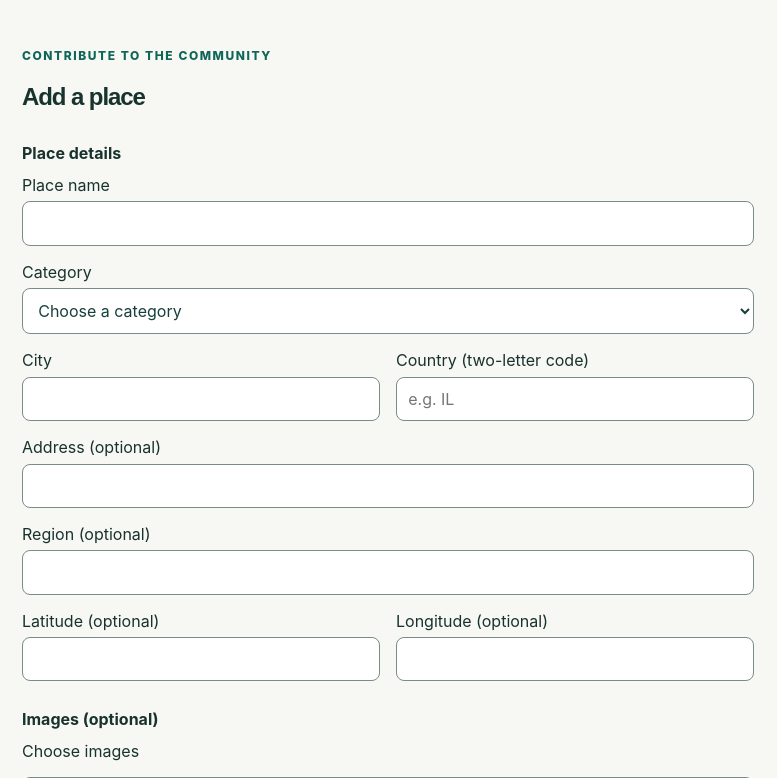
changing category reloads questions and clears stale answers
Type "New place" into the field labelled "Place name".
click(388, 223); type("New place")  # box [22,201,754,246]
Select "Configured category" in the dropdown labelled "Category" at (388, 311), box [22,288,754,334]
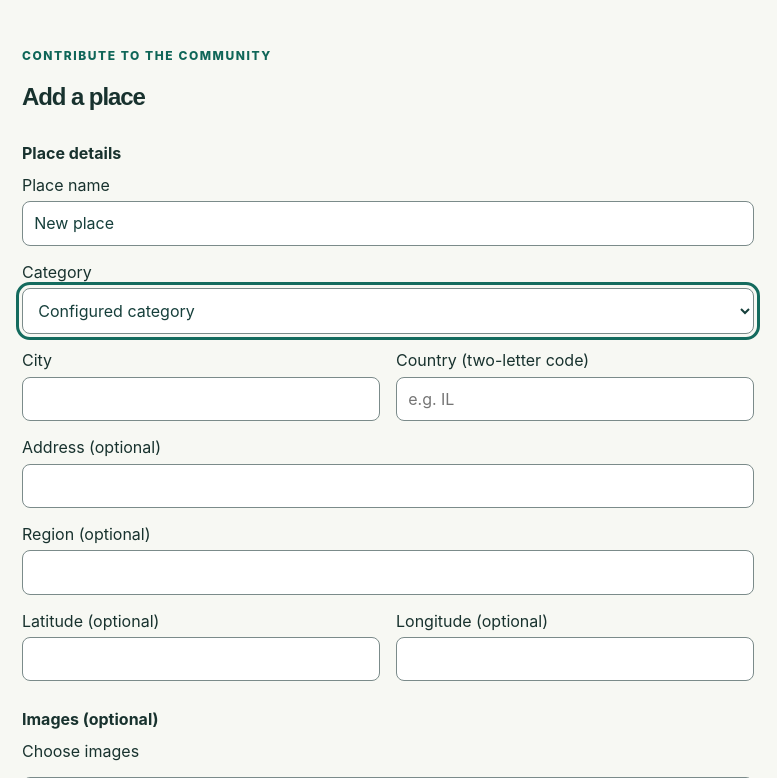
Type "Test city" into the field labelled "City".
click(201, 399); type("Test city")  # box [22,377,380,421]
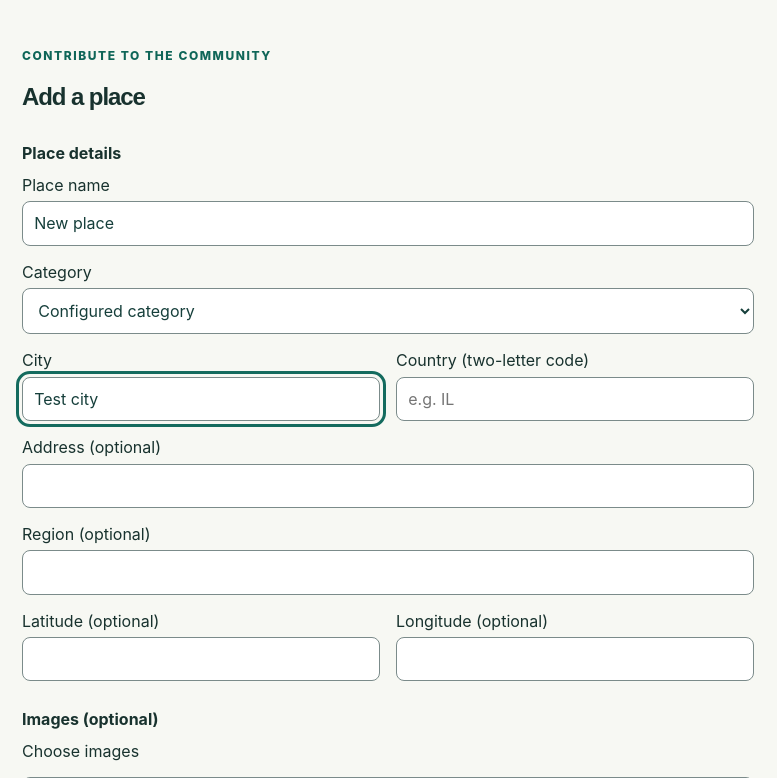
Type "IL" into the field labelled "Country (two-letter code)".
click(575, 399); type("IL")  # box [396,377,754,421]
(page scrolled)
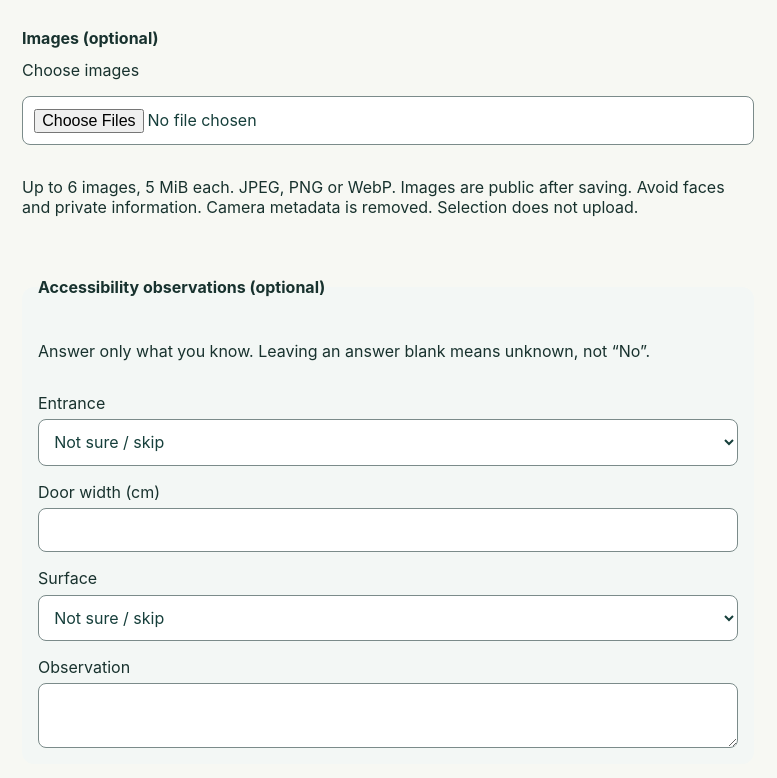
Now the dropdown labelled "Entrance" is shown
Select "Yes" in the dropdown labelled "Entrance" at (388, 442), box [38,419,738,466]
(page scrolled)
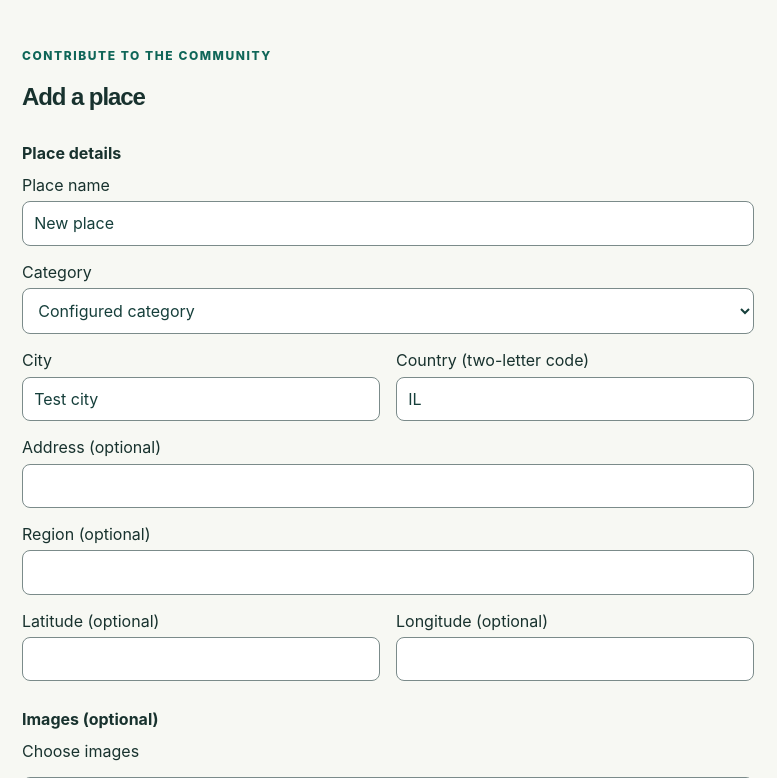
Select "Other category" in the dropdown labelled "Category" at (388, 311), box [22,288,754,334]
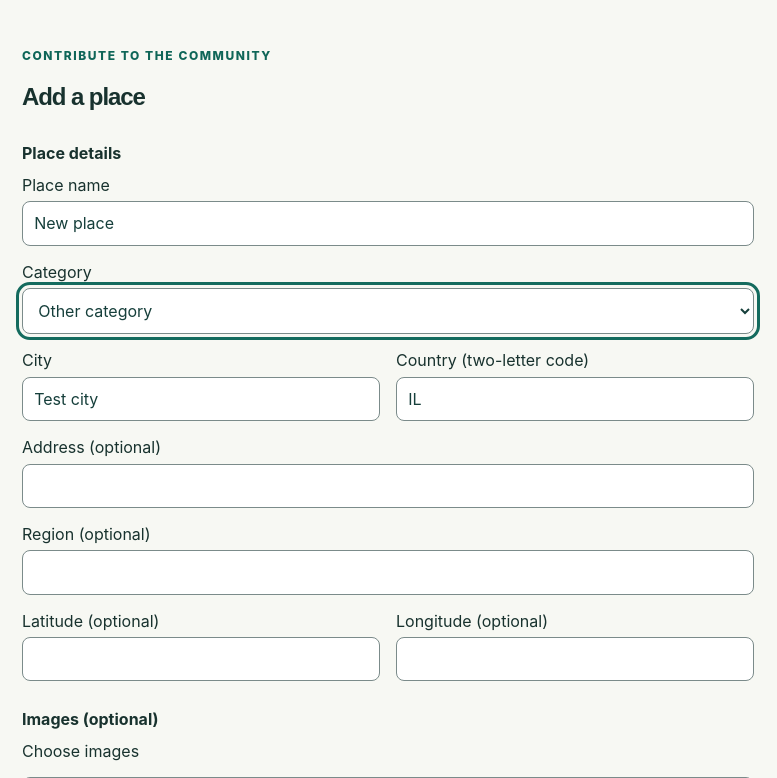
Select "Configured category" in the dropdown labelled "Category" at (388, 311), box [22,288,754,334]
(page scrolled)
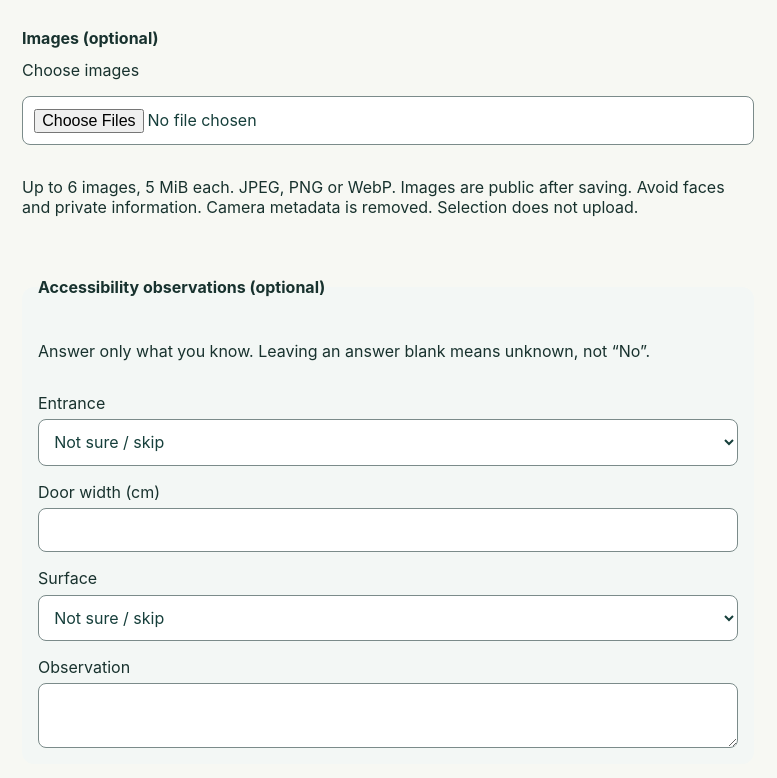
Now the dropdown labelled "Entrance" shows "Not sure / skip", box [38,419,738,466]
